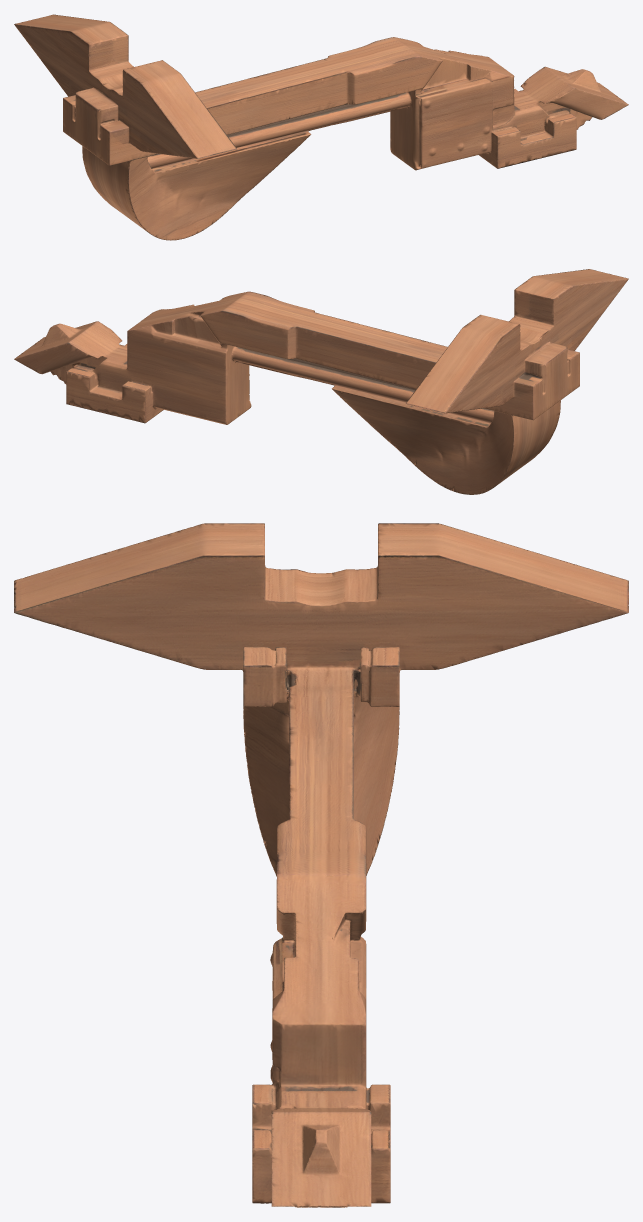
Rendered from 3华头子出头（出一折）、交互斗、梭形栱.glb.
3 views of the same model, one above another, from view 1: azimuth 30°, elevation 25°; view 2: azimuth 150°, elevation 25°; view 3: azimuth 270°, elevation 25° (orthographic). The views are drawn at different scales.
Size of the model in its own units: 1.9 by 0.6582 by 1.15.
Materials: 1 (1 with a texture image).
